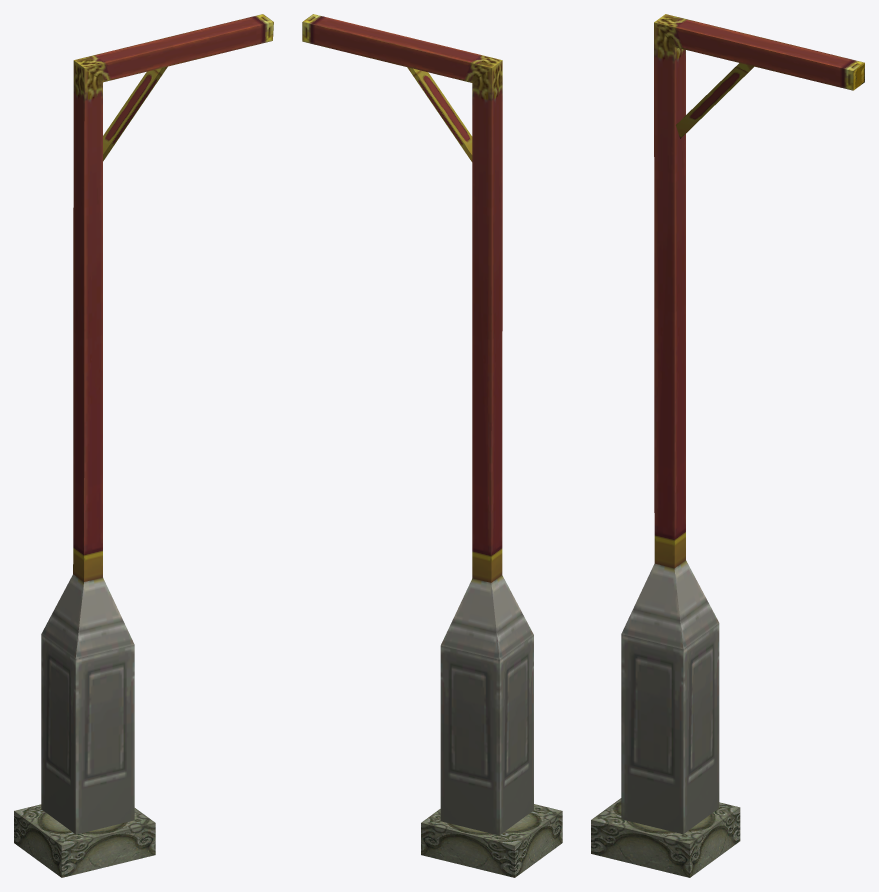
The picture shows the model from 3 angles, left to right: view 1: azimuth 30°, elevation 25°; view 2: azimuth 150°, elevation 25°; view 3: azimuth 330°, elevation 25°; orthographic projection. The views are drawn at different scales.
Parts seen in each view (by area): view 1: z_jz_dm_dj_06; view 2: z_jz_dm_dj_06; view 3: z_jz_dm_dj_06.
Boxes of the visible parts, box(x1,y1,x2,y2) form: z_jz_dm_dj_06: box(14, 14, 273, 877); z_jz_dm_dj_06: box(302, 14, 562, 877); z_jz_dm_dj_06: box(591, 14, 864, 877).
Bounding box in the file's own units: 140 × 456 × 50.17.
